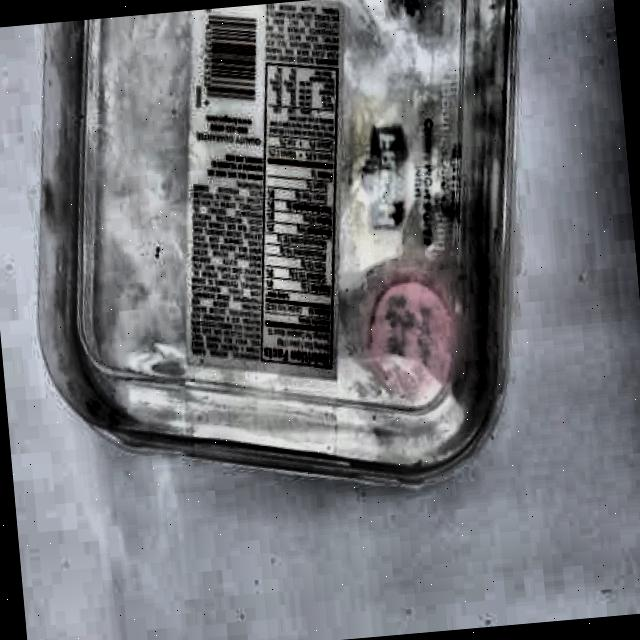plastic: (8, 0, 554, 518)
